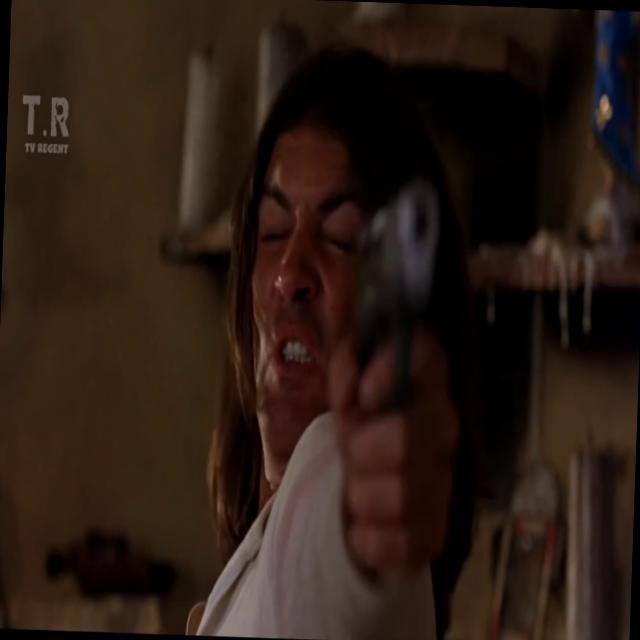handgun: (325, 111, 457, 464)
